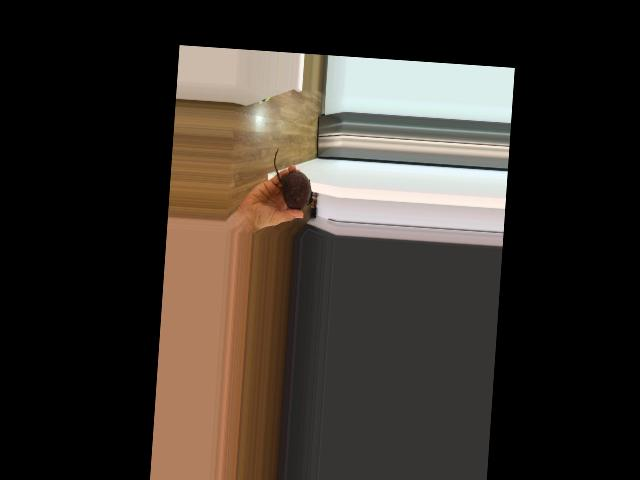beet: (270, 147, 315, 210)
